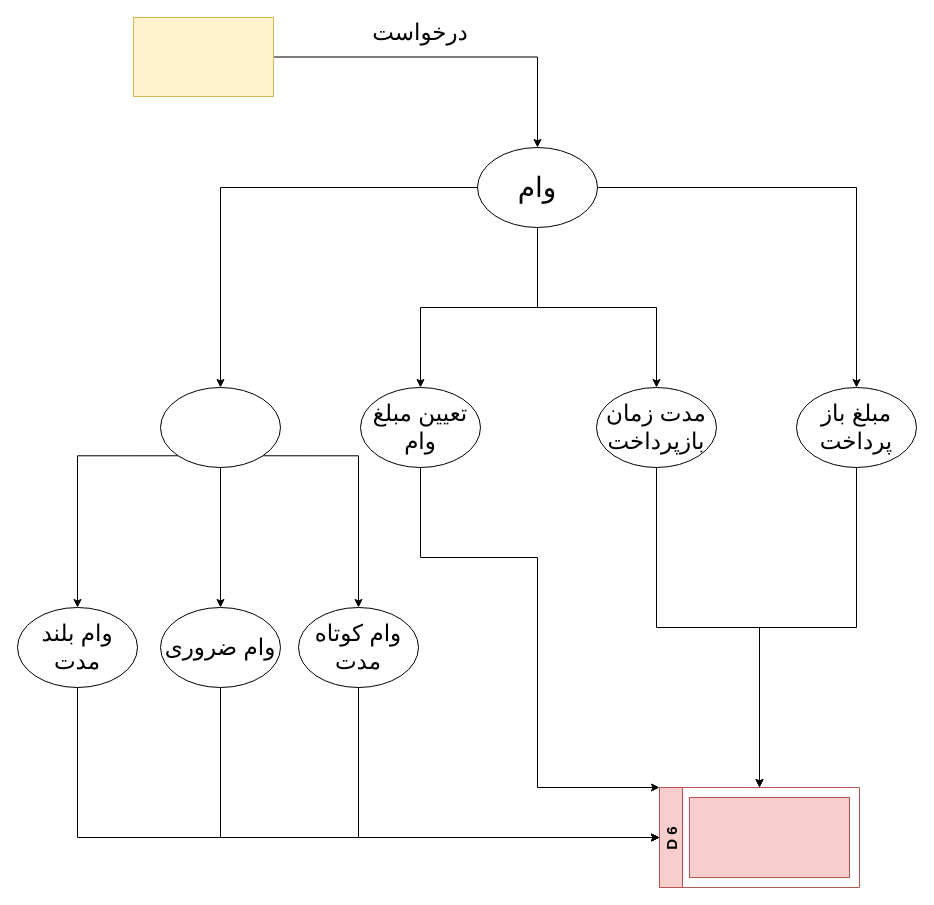
Some shapes in this 934 by 905 pixel diagram are drawn without their labels. The centre of each missing label's shape, as x and y in pixels:
loans: pixel 769 837
نوع وام: pixel 220 427
کاربر: pixel 203 56
